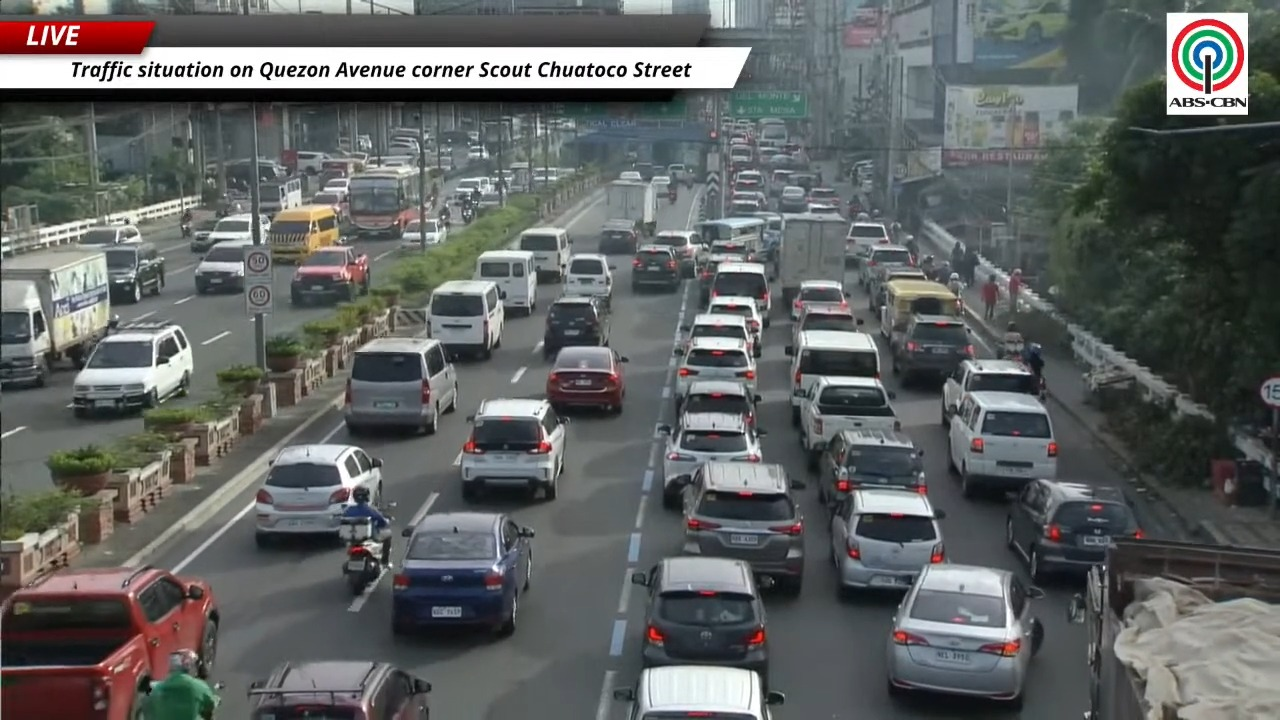bus: (348, 167, 422, 238), (260, 177, 302, 216)
car: (886, 563, 1044, 707), (392, 512, 533, 634), (681, 461, 805, 595), (632, 557, 768, 677), (1006, 479, 1143, 581), (254, 443, 380, 546), (830, 488, 945, 593), (73, 320, 193, 417), (948, 391, 1058, 496), (459, 398, 566, 501), (248, 660, 431, 719), (657, 412, 764, 508), (799, 376, 900, 468), (613, 665, 784, 719), (817, 430, 926, 505), (941, 358, 1040, 427), (892, 315, 974, 382), (547, 346, 628, 412), (290, 246, 370, 304), (676, 337, 757, 393), (542, 296, 609, 359), (676, 380, 761, 425), (675, 313, 760, 357), (105, 242, 164, 303), (704, 295, 763, 356), (193, 240, 251, 294), (792, 306, 863, 345), (563, 253, 614, 306), (868, 268, 927, 311), (698, 253, 746, 305), (860, 244, 914, 289), (631, 244, 681, 291), (651, 230, 700, 277), (790, 280, 847, 320), (846, 220, 889, 263), (77, 224, 142, 247), (208, 213, 253, 246), (598, 219, 640, 254), (400, 218, 447, 249), (308, 191, 346, 221), (189, 217, 218, 252), (778, 185, 807, 212), (792, 172, 818, 201), (808, 188, 840, 206), (729, 200, 760, 217), (805, 202, 840, 216), (321, 177, 349, 194), (468, 145, 488, 160), (651, 175, 671, 190), (618, 171, 643, 181)
motorcycle: (338, 517, 390, 594), (460, 204, 474, 224), (1038, 376, 1047, 402), (180, 220, 191, 238), (667, 191, 677, 203)
truck: (1067, 540, 1279, 719), (0, 566, 220, 719), (0, 246, 111, 386), (776, 213, 846, 306), (606, 180, 657, 236)
